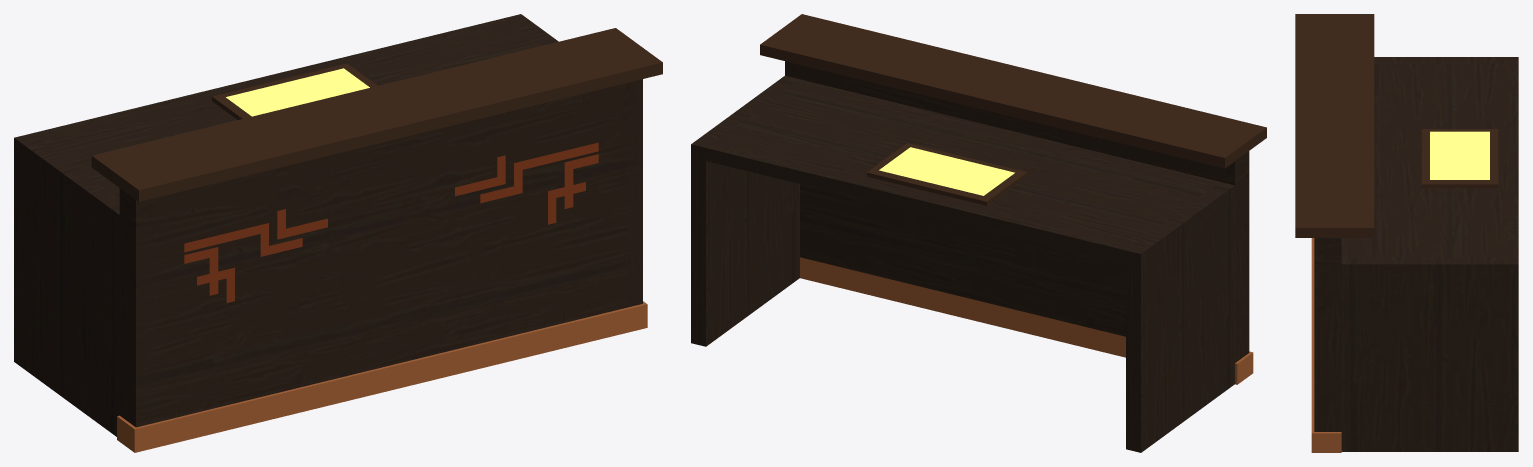
File: reception_desk.glb
3 views of the same model, side by side, from view 1: azimuth 30°, elevation 25°; view 2: azimuth 150°, elevation 25°; view 3: azimuth 270°, elevation 25° (orthographic). The views are drawn at different scales.
Parts seen in each view (by area): view 1: reception_desk; view 2: reception_desk; view 3: reception_desk.
Boxes of the visible parts, <box> form: reception_desk: <box>14,14,662,452</box>; reception_desk: <box>691,14,1266,452</box>; reception_desk: <box>1295,14,1518,452</box>.
Size of the model in its own units: 1.86 by 0.92 by 0.82.
Materials: 5 (1 with a texture image).
